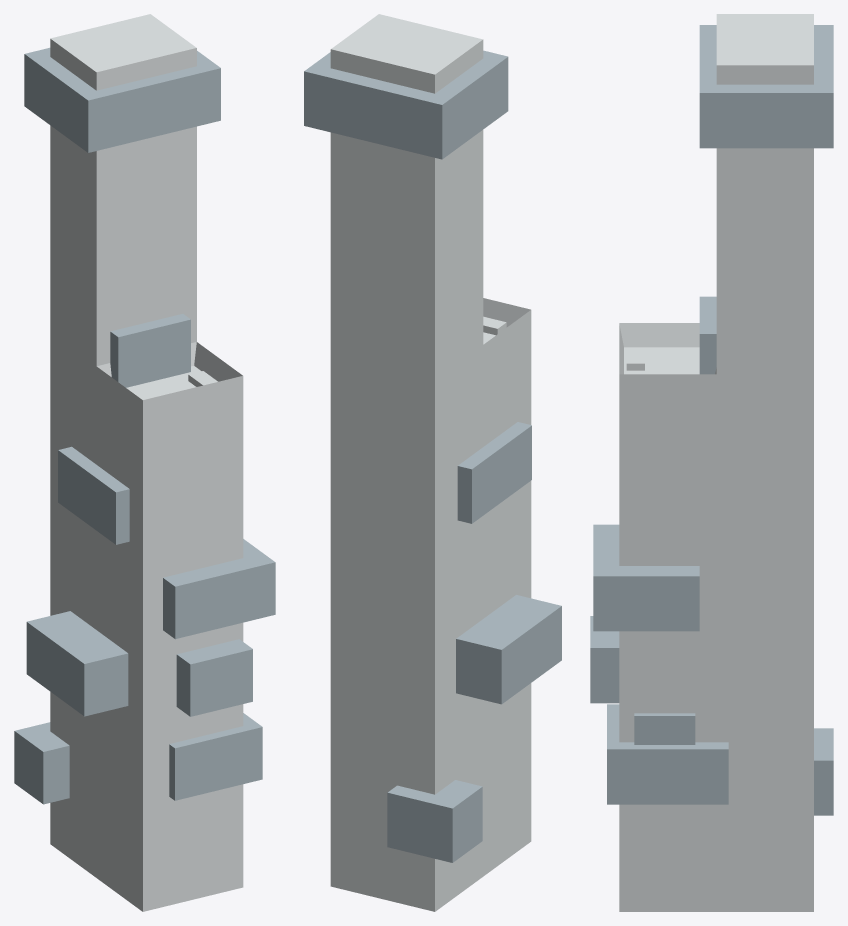
Rendered from building4.fbx.
3 views of the same model, side by side, from view 1: azimuth 30°, elevation 25°; view 2: azimuth 150°, elevation 25°; view 3: azimuth 270°, elevation 25° (orthographic). The views are drawn at different scales.
Visible parts, largest first — view 1: group1969328854, group840590973, group237003924, group1512355812, group1463696664, group1047909882, group552626658, group858874579, group1097759005; view 2: group1969328854, group840590973, group237003924, group1097759005, group858874579; view 3: group1969328854, group840590973, group1512355812, group1463696664, group1047909882, group1159287598, group1097759005, group552626658.
Boxes of the visible parts, left/top/right/bottom form: group1969328854: left=50, top=14, right=243, bottom=911; group840590973: left=24, top=47, right=220, bottom=152; group237003924: left=26, top=611, right=128, bottom=716; group1512355812: left=163, top=539, right=275, bottom=639; group1463696664: left=169, top=713, right=262, bottom=800; group1047909882: left=176, top=639, right=252, bottom=716; group552626658: left=110, top=314, right=190, bottom=387; group858874579: left=58, top=446, right=129, bottom=544; group1097759005: left=14, top=722, right=69, bottom=804; group1969328854: left=330, top=14, right=531, bottom=911; group840590973: left=304, top=50, right=508, bottom=159; group237003924: left=456, top=595, right=561, bottom=704; group1097759005: left=387, top=780, right=482, bottom=862; group858874579: left=457, top=422, right=531, bottom=523; group1969328854: left=619, top=14, right=813, bottom=911; group840590973: left=699, top=25, right=833, bottom=148; group1512355812: left=593, top=524, right=699, bottom=631; group1463696664: left=607, top=704, right=728, bottom=804; group1047909882: left=590, top=616, right=619, bottom=703; group1159287598: left=634, top=713, right=695, bottom=744; group1097759005: left=814, top=728, right=833, bottom=815; group552626658: left=699, top=296, right=716, bottom=374.
Bounding box in the file's own units: 16.38 × 76.75 × 20.
